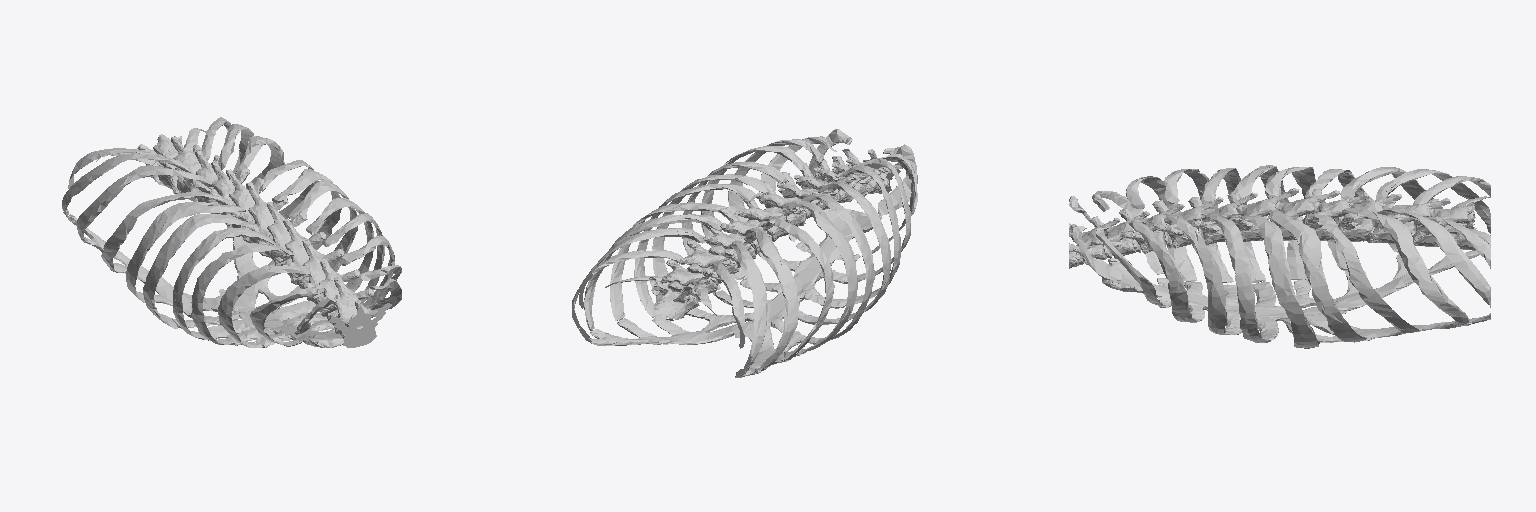
The model's file is bones_final.obj.
The picture shows the model from 3 angles: view 1: azimuth 30°, elevation 25°; view 2: azimuth 150°, elevation 25°; view 3: azimuth 270°, elevation 25°; orthographic projection.
Visible parts, largest first — view 1: Skeletal_Vertebral_Column; view 2: Skeletal_Vertebral_Column; view 3: Skeletal_Vertebral_Column.
Part boxes in pixels (x1,y1,x2,y2): Skeletal_Vertebral_Column: (62, 117, 401, 347); Skeletal_Vertebral_Column: (572, 129, 917, 377); Skeletal_Vertebral_Column: (1069, 165, 1490, 348).
Bounding box in the file's own units: 220 × 138 × 387.